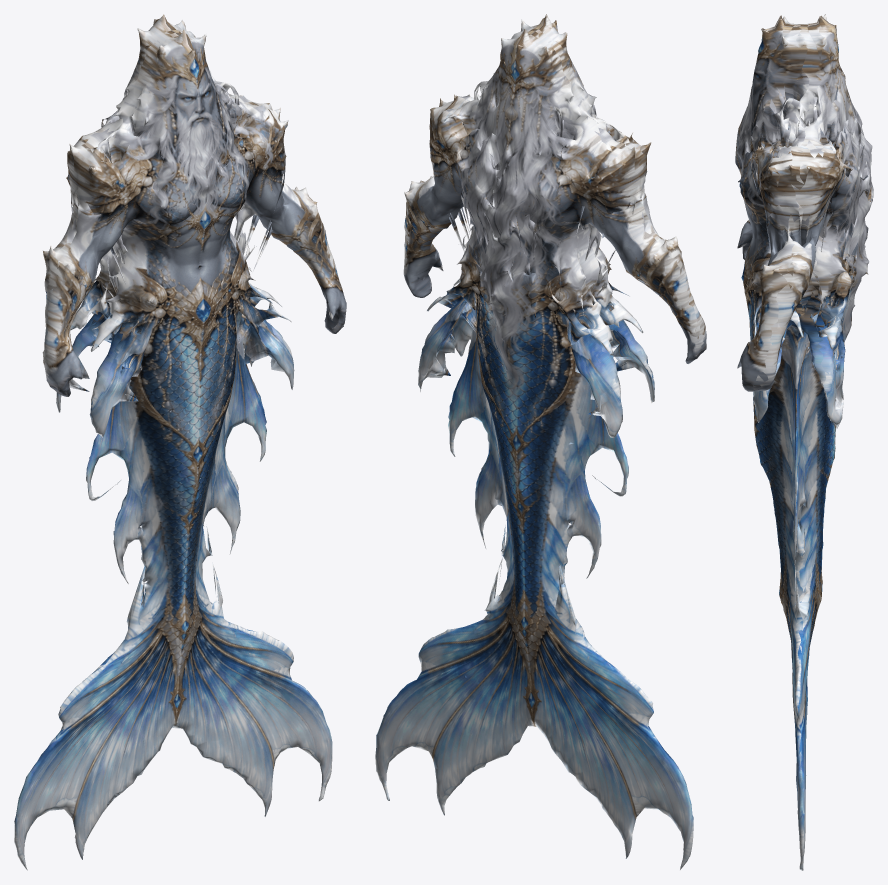
Rendered from seaking.glb.
3 renders of one model, left to right at view 1: azimuth 30°, elevation 25°; view 2: azimuth 150°, elevation 25°; view 3: azimuth 270°, elevation 25°, orthographic. The views are drawn at different scales.
Visible parts, largest first — view 1: geometry_0; view 2: geometry_0; view 3: geometry_0.
Boxes of the visible parts, bbox=[...] form: geometry_0: bbox=[14, 14, 346, 870]; geometry_0: bbox=[375, 14, 706, 870]; geometry_0: bbox=[735, 14, 873, 870].
Bounding box in the file's own units: 0.7942 × 1.95 × 0.3105.
Materials: 1 (1 with a texture image).
